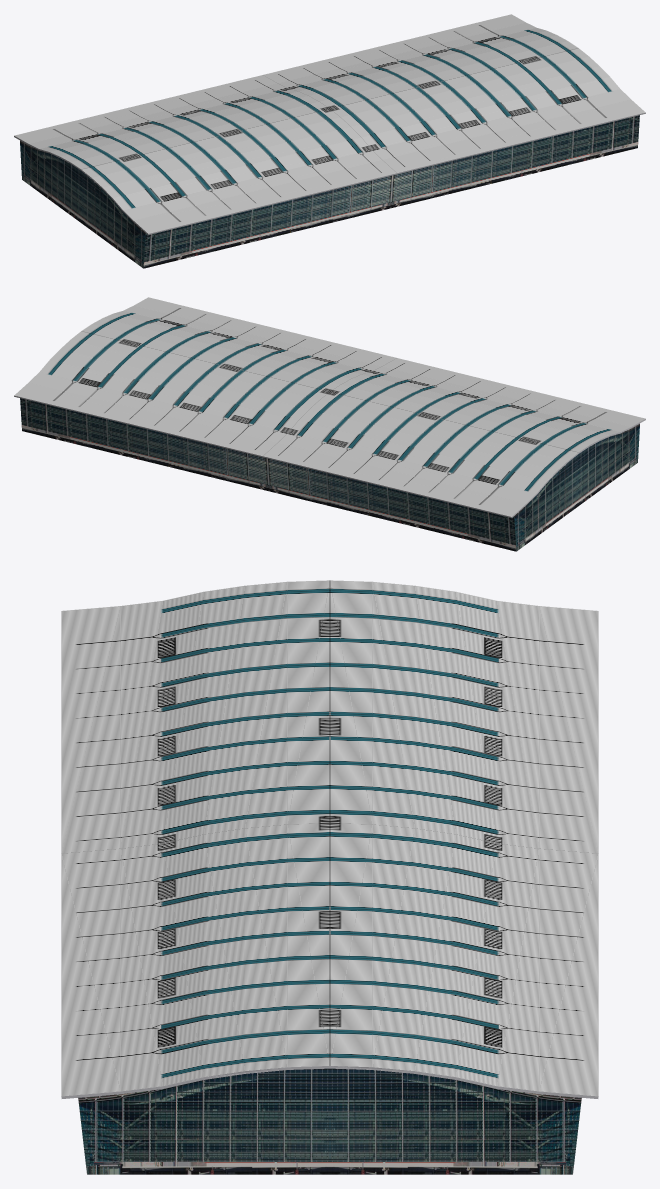
File: HeathrowT5.obj
3 renders of one model, top to bottom at view 1: azimuth 30°, elevation 25°; view 2: azimuth 150°, elevation 25°; view 3: azimuth 270°, elevation 25°, orthographic. The views are drawn at different scales.
Parts seen in each view (by area): view 1: 5A; view 2: 5A; view 3: 5A.
Part boxes in pixels (bbox=[...]): 5A: bbox=[14, 14, 645, 268]; 5A: bbox=[14, 297, 645, 551]; 5A: bbox=[61, 580, 598, 1174].
Size of the model in its own units: 399 by 42.16 by 186.
2 materials, 2 textured.
